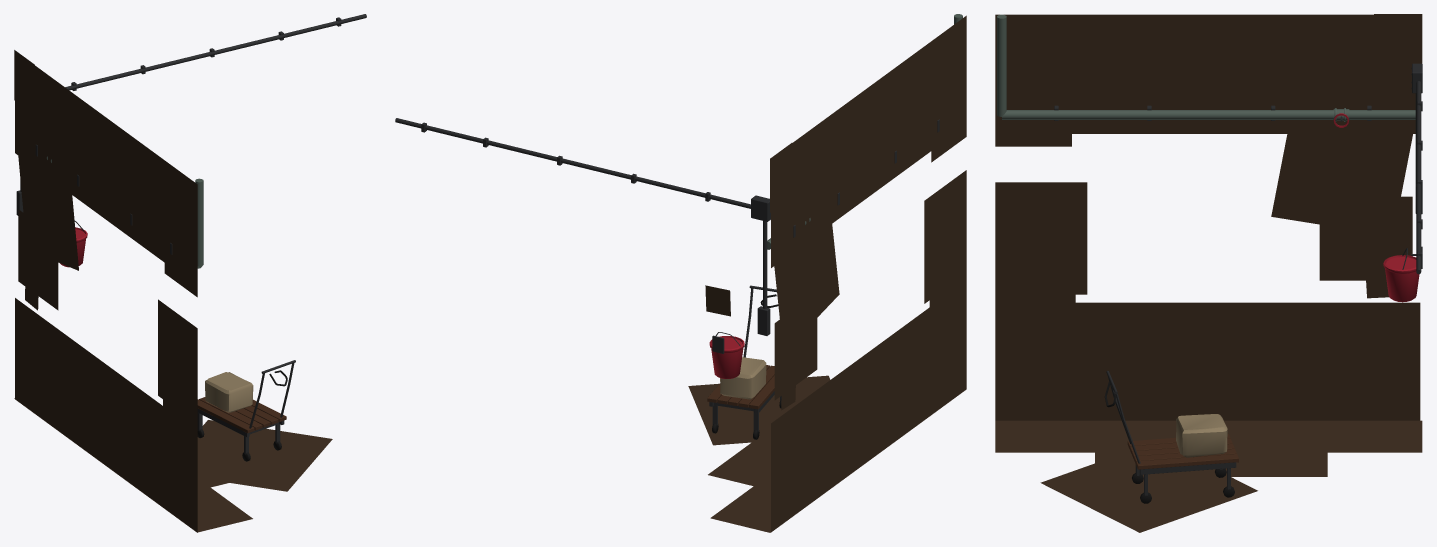
Rendered from ch3_dress_corridor.glb.
The picture shows the model from 3 angles, left to right: view 1: azimuth 30°, elevation 25°; view 2: azimuth 150°, elevation 25°; view 3: azimuth 270°, elevation 25°; orthographic projection. The views are drawn at different scales.
Visible parts, largest first — view 1: ch3_dress_corridor; view 2: ch3_dress_corridor; view 3: ch3_dress_corridor.
Part boxes in pixels (bbox=[...]): ch3_dress_corridor: bbox=[14, 14, 366, 532]; ch3_dress_corridor: bbox=[395, 14, 966, 532]; ch3_dress_corridor: bbox=[995, 14, 1422, 532].
Bounding box in the file's own units: 3.05 × 2.9 × 2.76.
